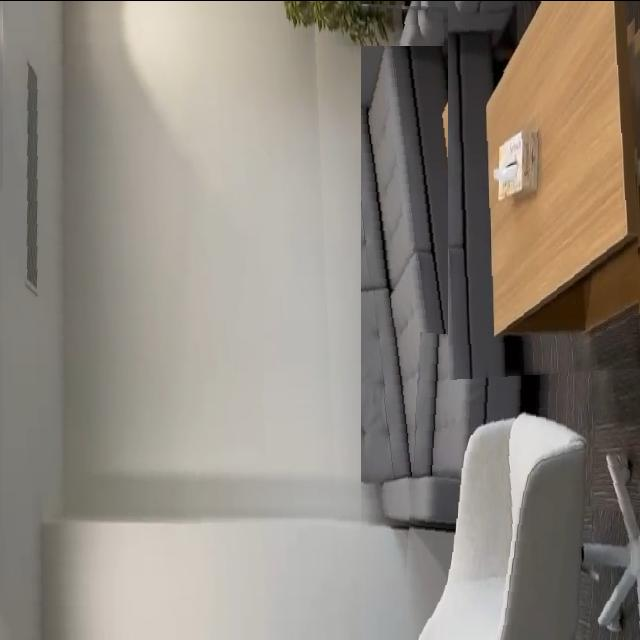furniture: (361, 0, 523, 570), (402, 331, 640, 640), (448, 0, 640, 379), (300, 0, 446, 45)
wall: (3, 0, 342, 640)
